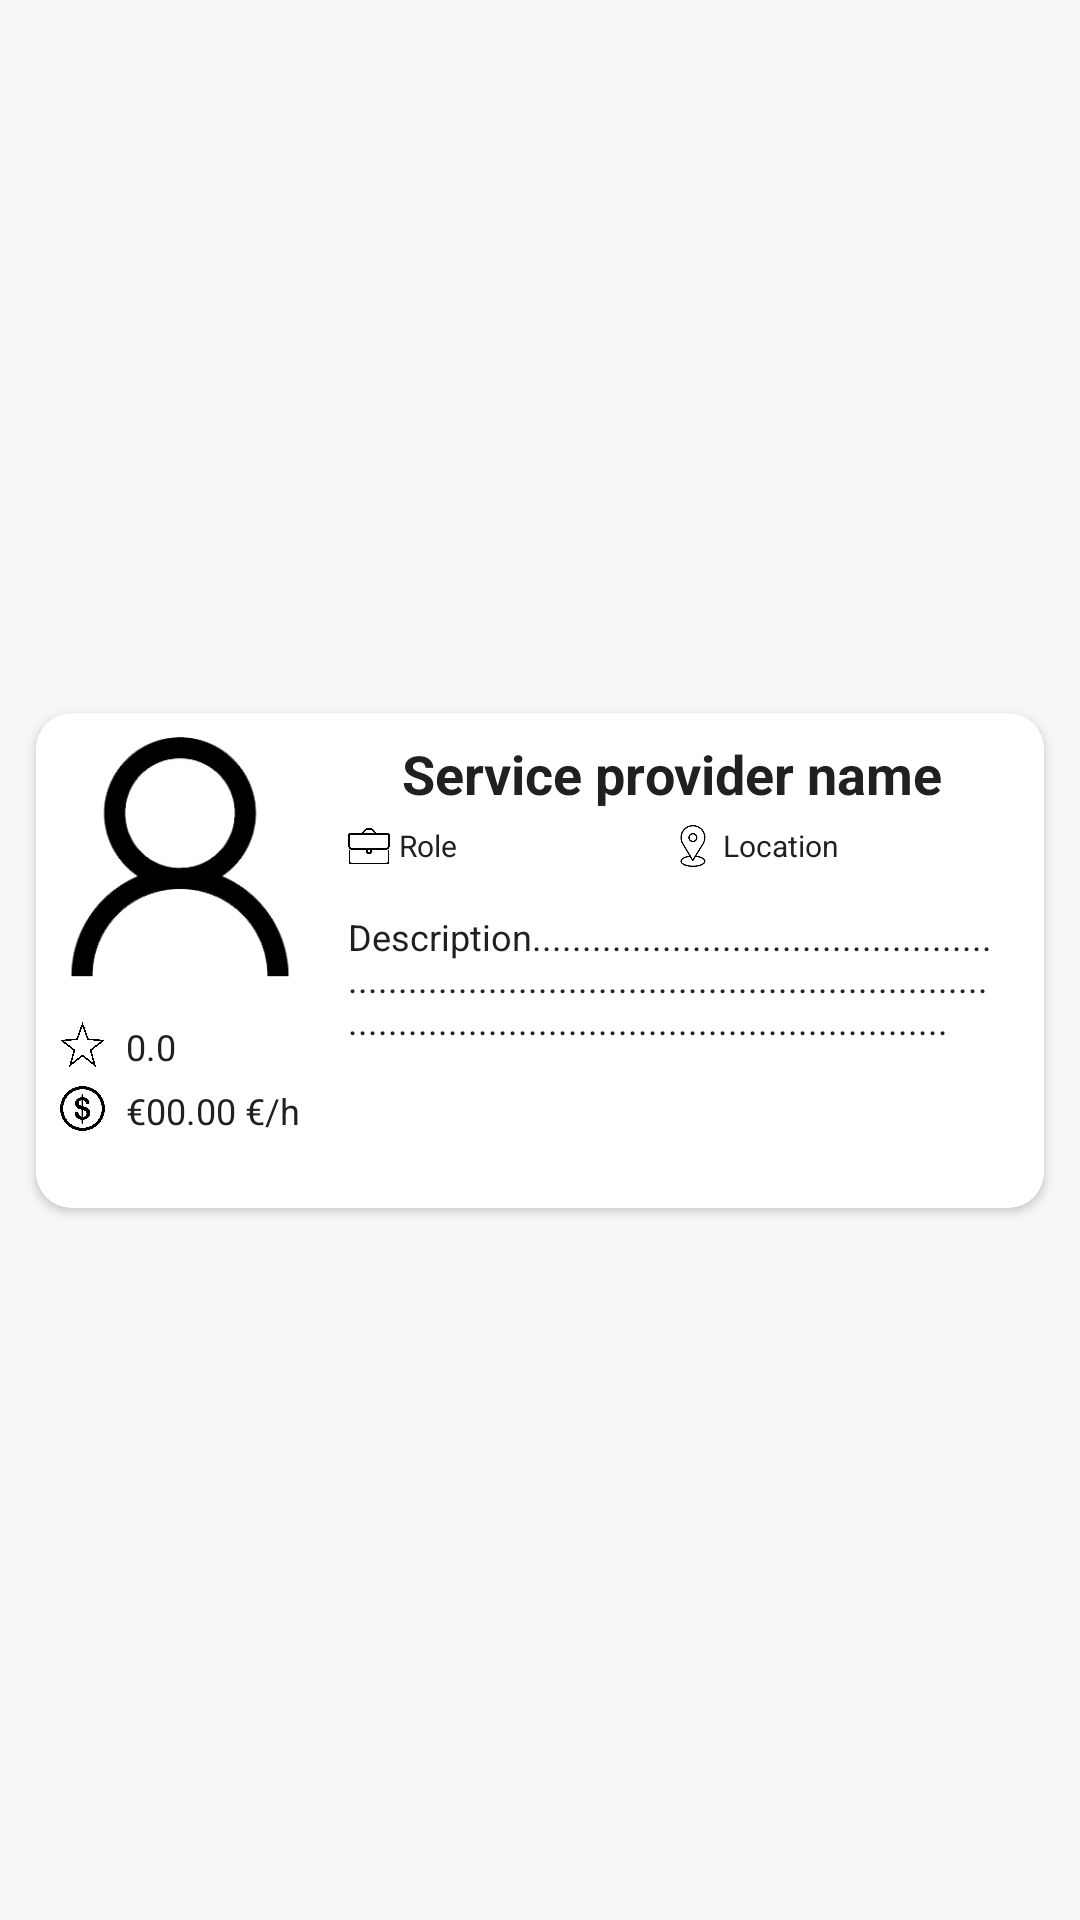

Icon click points for this 1080x1920 phone screenshot, format point (x, y):
price: point (82, 1108)
rating: point (82, 1044)
service type: point (369, 846)
user: point (180, 857)
